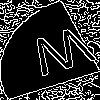W: (25, 25, 100, 85)
